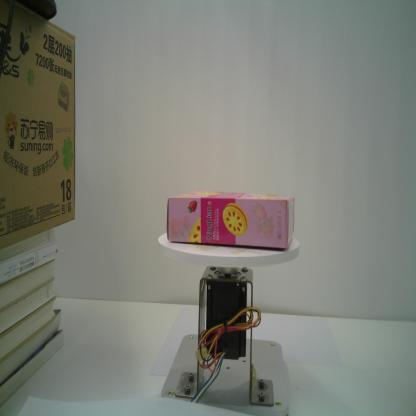Dessert: (166, 190, 295, 248)
